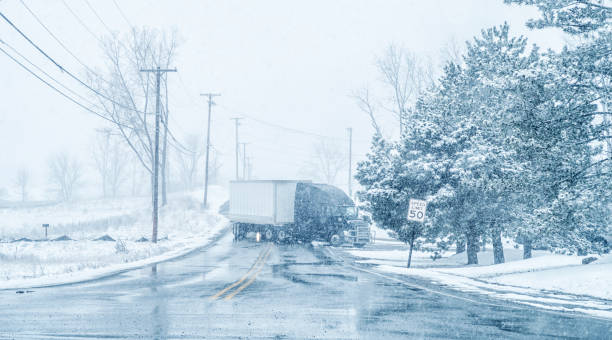SpeedLimitSign: (406, 198, 426, 223)
